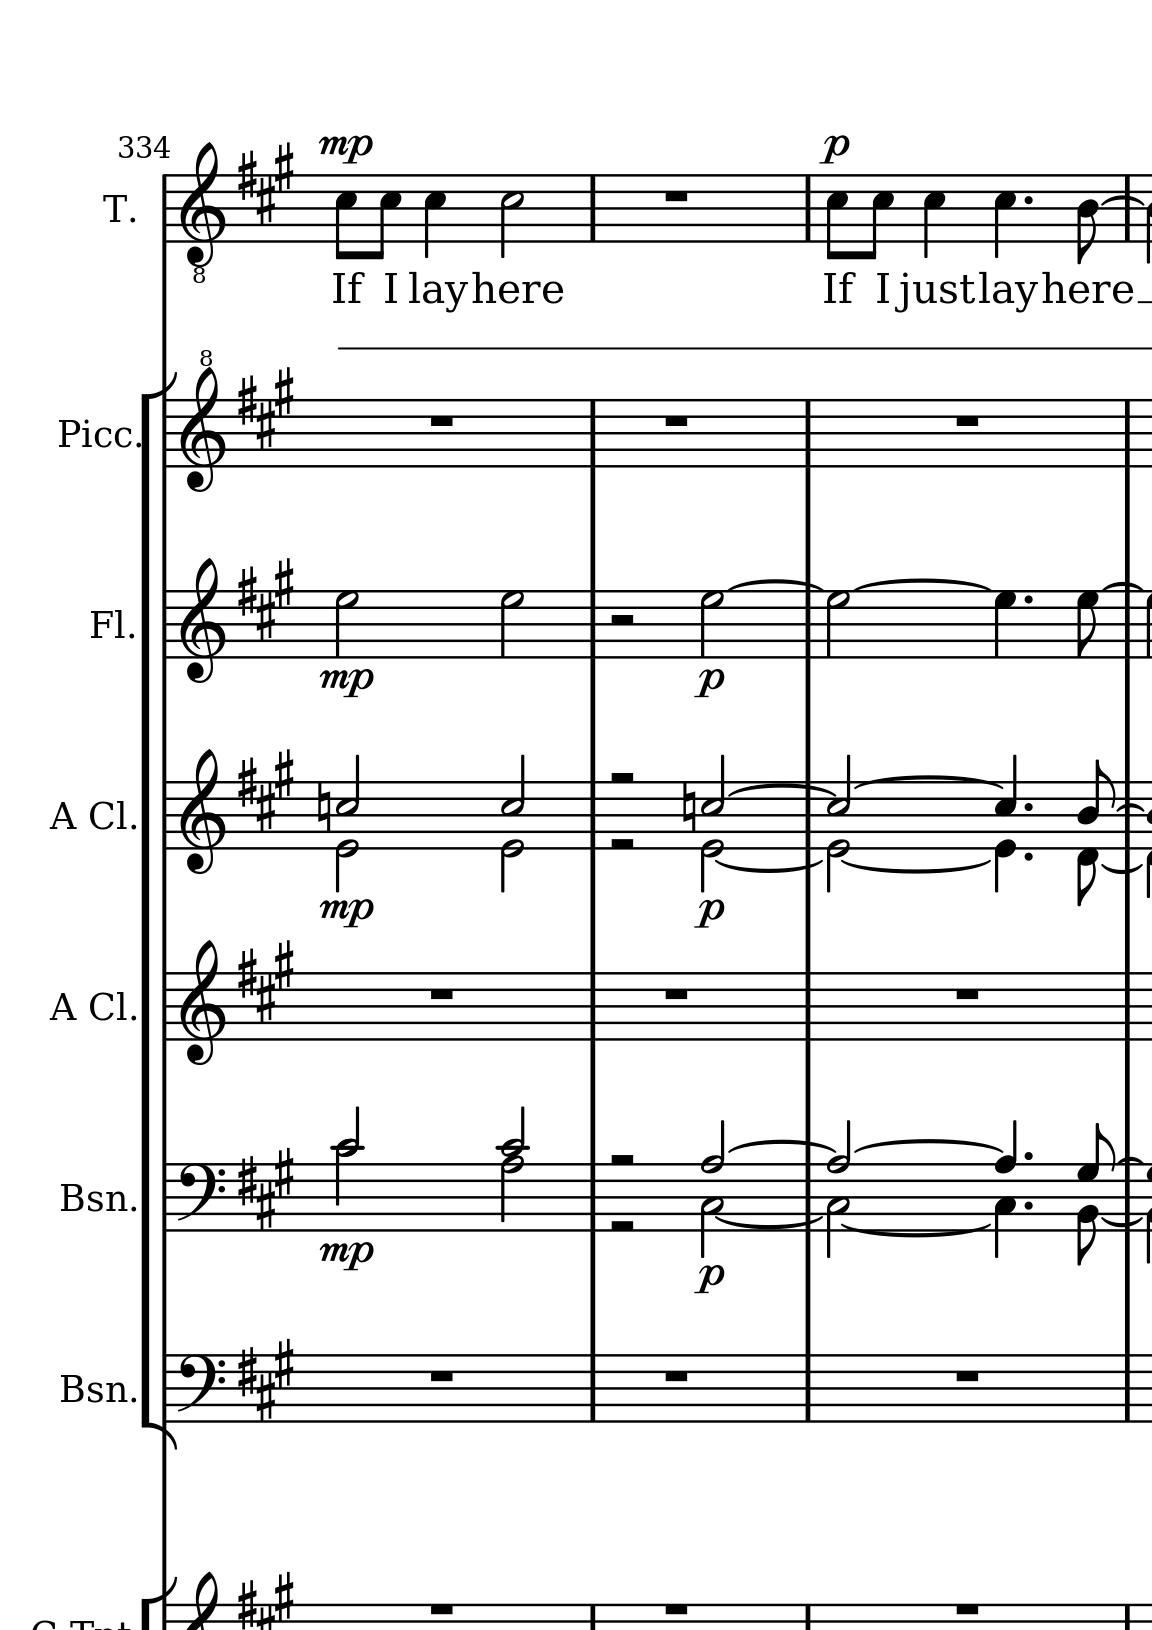2_0_5: (500, 756, 527, 898), (699, 755, 727, 896), (335, 754, 362, 895), (827, 754, 853, 895)
2_3_8: (824, 1119, 852, 1261), (699, 1122, 727, 1262)
2_5: (497, 173, 526, 260)
2_7: (333, 588, 362, 659), (698, 589, 727, 660), (499, 588, 526, 660), (825, 589, 852, 662)
2_8_10: (497, 1107, 529, 1236)
3: (116, 135, 133, 160), (135, 135, 151, 160)
4: (153, 135, 170, 161)
4_0_5: (992, 751, 1019, 894)
4_3_8: (992, 1118, 1020, 1260)
4_5: (421, 173, 448, 260), (921, 173, 948, 260), (992, 173, 1017, 260)
4_7: (992, 589, 1019, 660)
8_-1_4: (1076, 760, 1117, 905)
8_2_7: (1073, 1122, 1118, 1265)
8_4: (1073, 172, 1098, 265)
8_5: (863, 173, 895, 260), (372, 173, 401, 260), (333, 173, 358, 262), (824, 173, 849, 262)
8_7: (1075, 589, 1100, 660)
A_S: (234, 1333, 299, 1427), (233, 555, 297, 646), (234, 1145, 299, 1232), (232, 365, 297, 451), (236, 750, 300, 832), (234, 938, 295, 1026), (233, 142, 295, 224)
Brace: (138, 369, 180, 1456)
Bsn: (59, 1176, 127, 1222), (59, 1370, 127, 1411)
Cl: (86, 986, 132, 1031), (86, 796, 132, 840)
E_S: (232, 1566, 295, 1630)
Fclef: (175, 1351, 228, 1427), (176, 1161, 227, 1236)
Fl: (85, 604, 130, 646)
Gclef: (177, 746, 228, 879), (177, 556, 227, 685), (177, 938, 227, 1068)
High_Gclef: (178, 345, 224, 496)
Lower_Gclef: (178, 141, 224, 287)
Natural: (679, 781, 698, 835), (315, 780, 333, 835)
Rests1: (950, 1600, 984, 1620), (424, 1600, 458, 1619), (951, 984, 982, 1004), (660, 187, 692, 206), (425, 412, 458, 431), (660, 412, 692, 431), (425, 984, 458, 1003), (660, 1600, 692, 1619), (660, 984, 691, 1003), (660, 1366, 691, 1385), (951, 1366, 982, 1385), (425, 1367, 458, 1385), (953, 412, 982, 431)
Rests2: (606, 1214, 640, 1237), (606, 609, 640, 632), (606, 766, 640, 789), (606, 832, 640, 855), (606, 1149, 640, 1171)
Single_barline: (798, 591, 824, 659), (580, 399, 605, 469), (795, 399, 820, 467), (795, 972, 820, 1041), (580, 589, 605, 657), (580, 783, 605, 849), (581, 972, 605, 1041), (798, 1163, 820, 1232), (1117, 399, 1140, 467), (1117, 972, 1140, 1041), (581, 1163, 603, 1230), (1117, 1164, 1140, 1231), (1117, 1355, 1140, 1422), (1120, 592, 1141, 659), (582, 1355, 603, 1422), (797, 1355, 818, 1422), (583, 174, 602, 242), (799, 174, 818, 242), (157, 589, 175, 659), (157, 781, 175, 851), (157, 973, 175, 1042), (157, 1164, 175, 1231), (157, 174, 173, 244), (160, 399, 176, 469), (158, 1355, 175, 1424)
Slur: (853, 1138, 1007, 1154), (840, 1224, 990, 1239), (853, 775, 1001, 790), (843, 859, 989, 874), (852, 577, 992, 591), (714, 859, 827, 874), (729, 1139, 838, 1154), (727, 783, 837, 796), (727, 577, 823, 589), (717, 1218, 825, 1227), (1096, 860, 1145, 875), (1103, 579, 1142, 593), (1102, 1218, 1145, 1230), (1102, 194, 1143, 207), (1111, 1156, 1146, 1169), (1115, 801, 1142, 811)
dot: (1019, 798, 1036, 817), (1019, 847, 1036, 865), (1019, 1198, 1036, 1214), (1019, 1149, 1035, 1165), (1019, 193, 1035, 208), (1020, 592, 1035, 608)
mp: (318, 1239, 375, 1275), (318, 135, 378, 168), (318, 665, 375, 700), (318, 895, 375, 928)
p: (693, 897, 726, 932), (693, 1262, 726, 1297), (693, 667, 726, 699), (820, 133, 852, 164)
